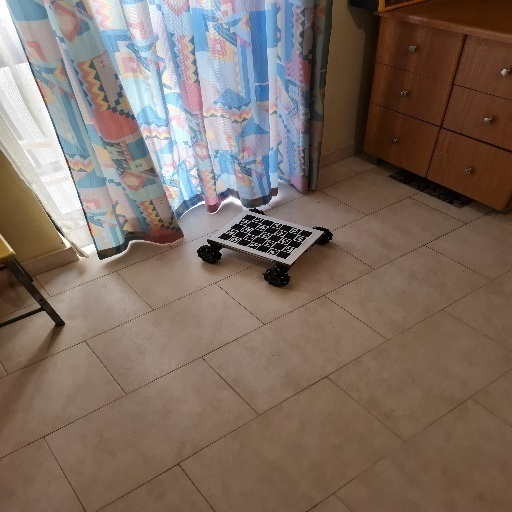Omniwheel: (194, 209, 334, 289)
